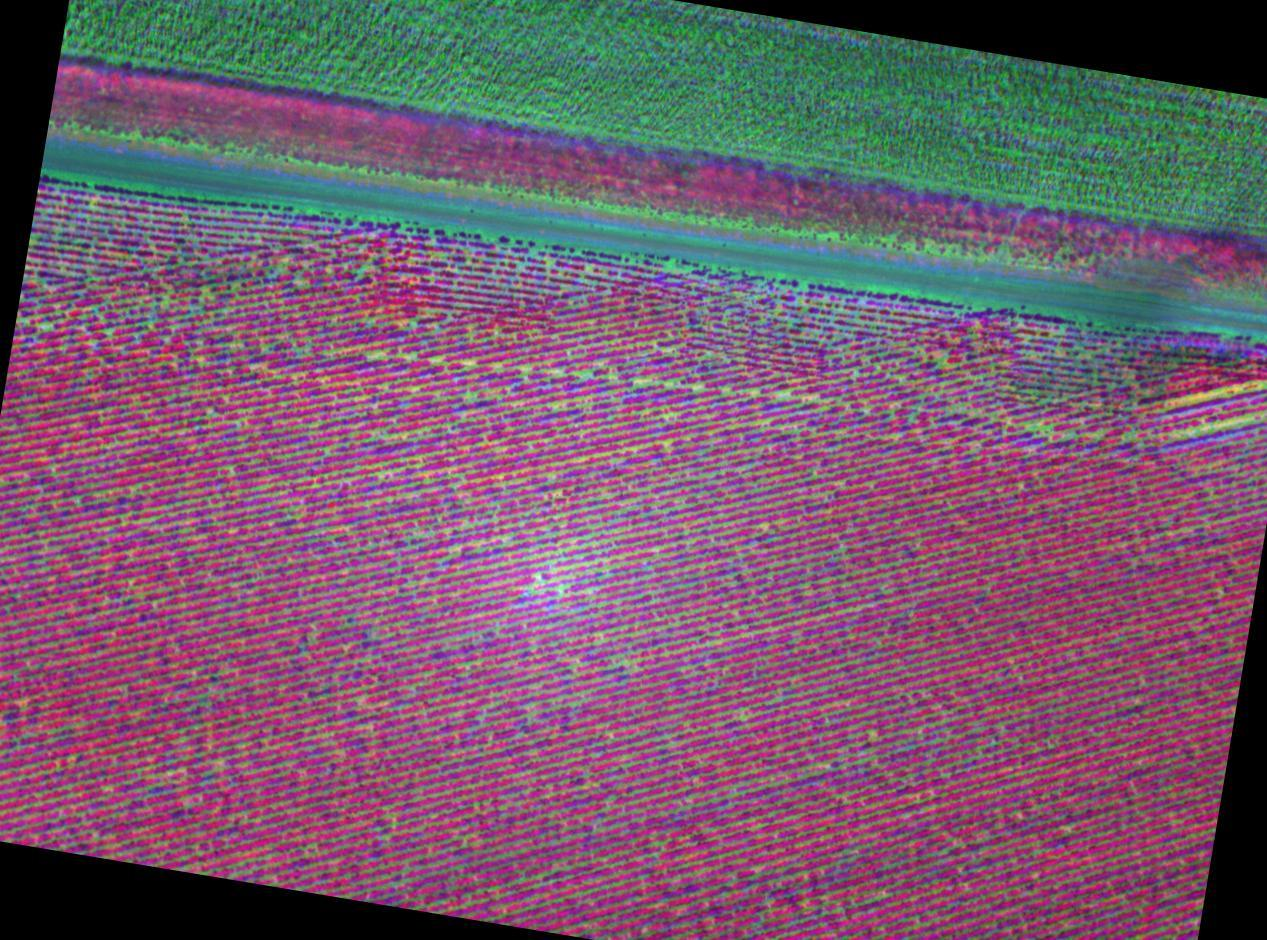dc: (938, 359, 942, 364), (781, 393, 786, 397), (665, 267, 669, 271), (796, 299, 800, 303), (742, 716, 746, 720), (834, 309, 838, 312), (1196, 428, 1199, 432), (869, 731, 873, 734), (1217, 391, 1220, 394), (759, 420, 762, 423), (1128, 434, 1131, 437), (666, 441, 669, 444), (675, 614, 678, 617), (625, 661, 628, 664), (463, 836, 466, 839)
